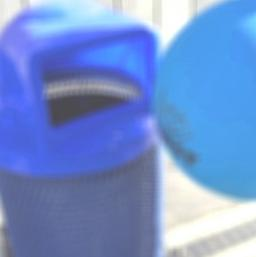algae: (152, 0, 256, 201)
